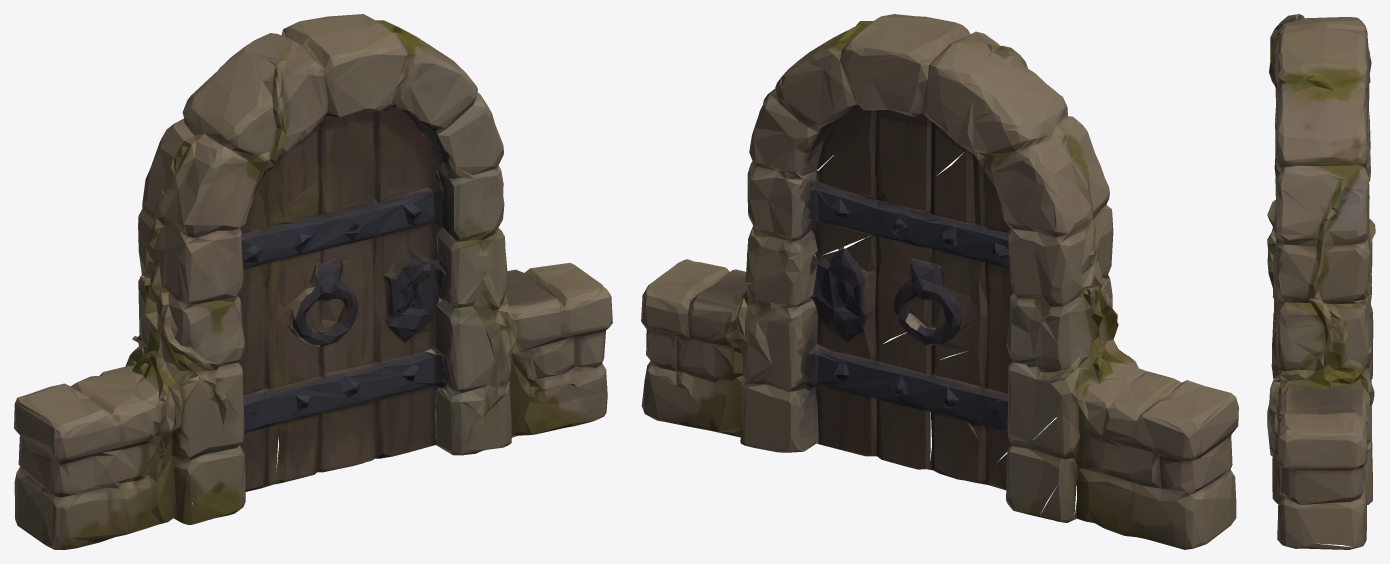
File: door_crypt.glb
3 views of the same model, side by side, from view 1: azimuth 30°, elevation 25°; view 2: azimuth 150°, elevation 25°; view 3: azimuth 270°, elevation 25° (orthographic). The views are drawn at different scales.
Visible parts, largest first — view 1: geometry_0; view 2: geometry_0; view 3: geometry_0.
Boxes of the visible parts, <box> form: geometry_0: <box>14,14,612,549</box>; geometry_0: <box>641,14,1238,549</box>; geometry_0: <box>1267,14,1375,549</box>.
Size of the model in its own units: 1.45 by 1.07 by 0.2631.
Materials: 1 (1 with a texture image).
